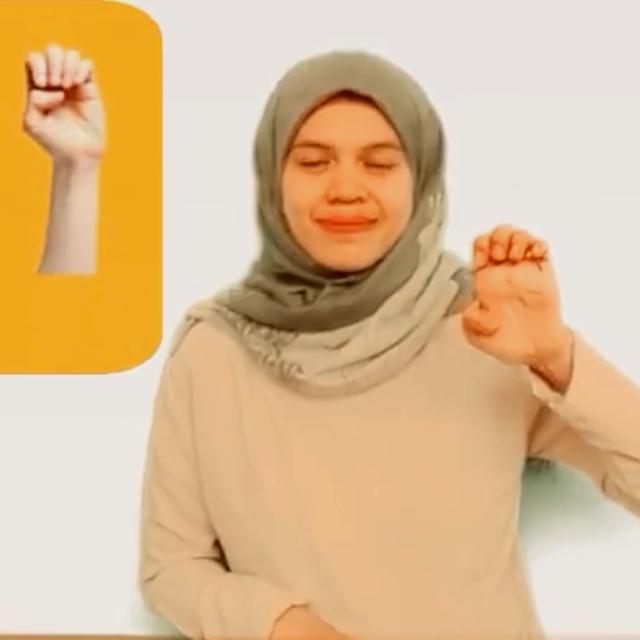E: (464, 225, 566, 367)
